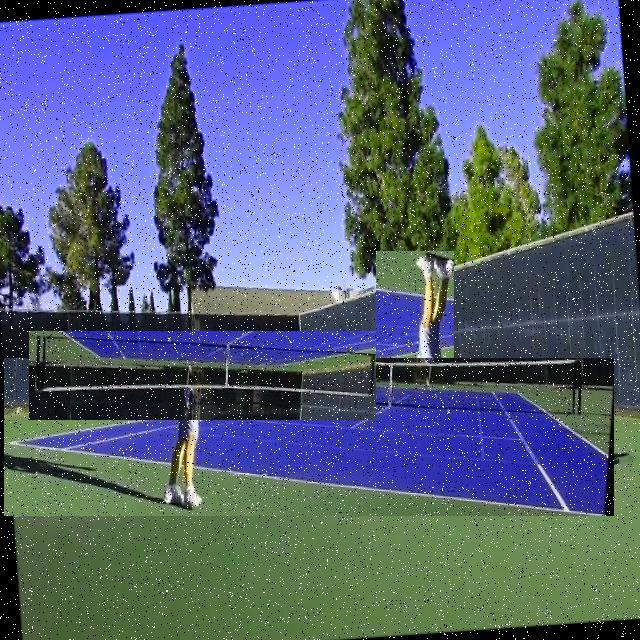court: (4, 358, 614, 516)
net: (29, 331, 376, 420)
player: (376, 251, 454, 512)
